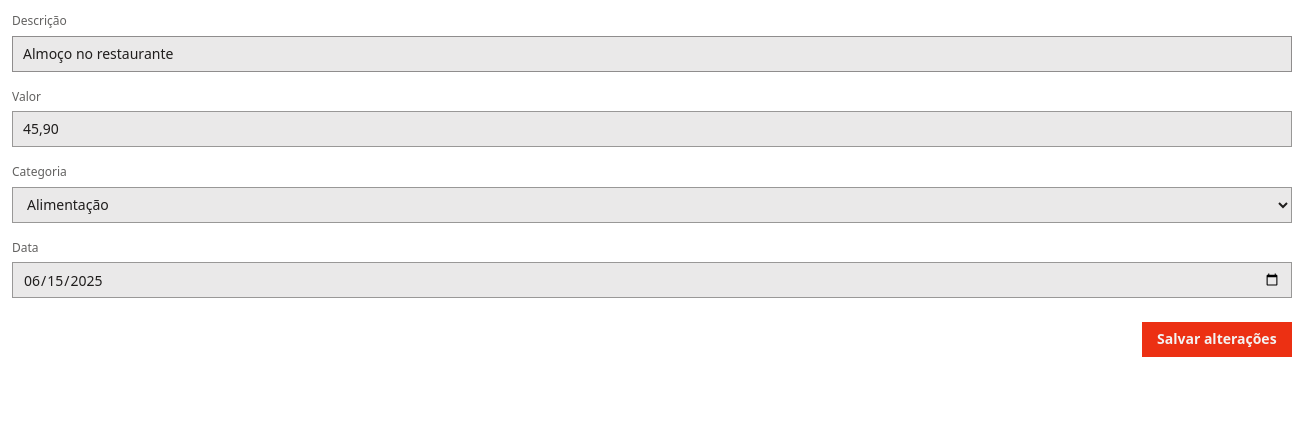
Test: TransactionForm › mode="edit" (FEAT-18) › erro 400 exibe "Não foi possível salvar" e mantém os dados preenchidos
Check: the field labelled "Descrição" is shown, box [12,36,1292,72]
Click the button "Salvar alterações" at (1217, 340), box [1142,322,1292,357]
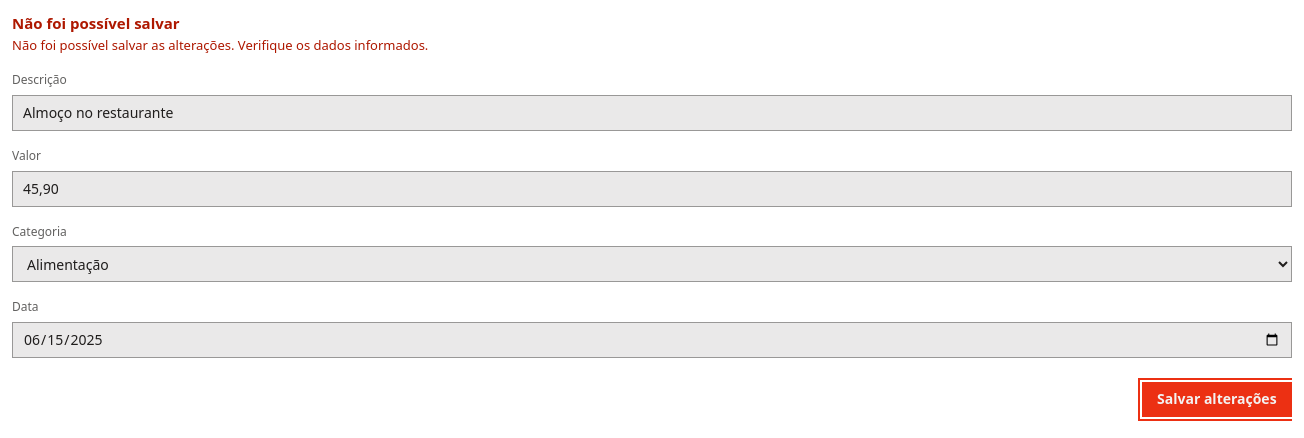
Check: the field labelled "Descrição" holds "Almoço no restaurante", box [12,95,1292,131]
Check: the text "Não foi possível salvar" is shown, box [12,13,180,33]
